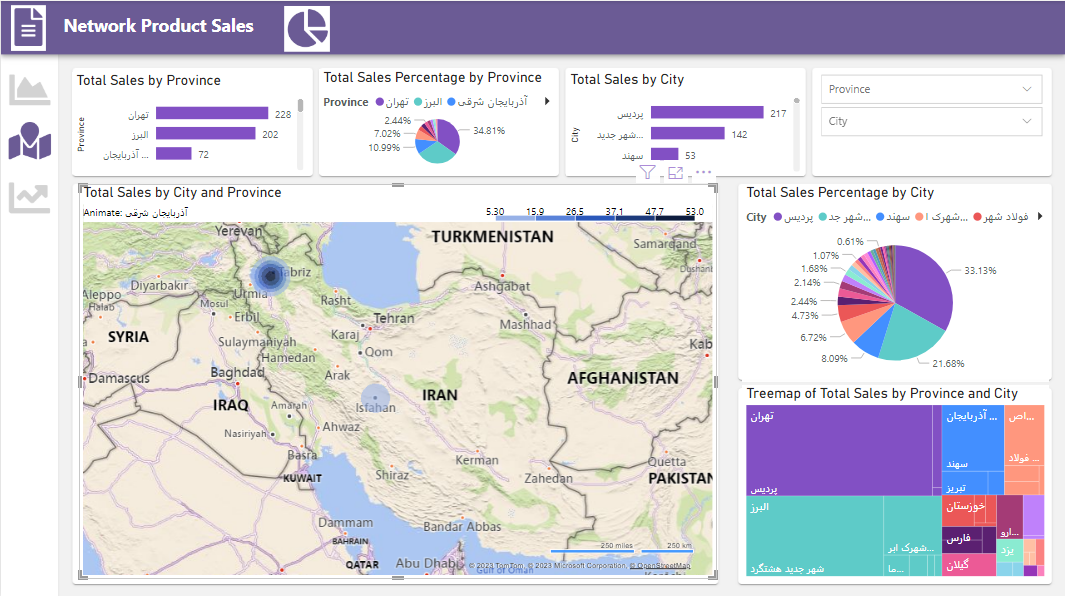

What the dashboard file says about the page in this screenshot:
{"tool":"powerbi","page":{"name":"Geo","canvas":[1280,720],"ordinal":1},"visuals":[{"type":"actionButton","box":[0,136.1,69.5,65.2],"z":0},{"type":"actionButton","box":[0,135,69.5,65],"z":1000},{"type":"actionButton","box":[0,69.5,69.5,65.7],"z":2000},{"type":"image","box":[0,201.3,69.5,65.2],"z":3000},{"type":"image","box":[0,81.9,69.5,53.3],"z":4000},{"type":"textbox","box":[69.5,9.9,260.8,41.1],"z":5000},{"type":"actionButton","box":[0,199.9,68,65.2],"z":6000},{"type":"clusteredBarChart","fields":{"Y":["CountNonNull(sales.Product_id)"],"Category":["province.Province"]},"box":[85,85.1,283.5,123.3],"z":7000,"group":"g1"},{"type":"clusteredBarChart","fields":{"Category":["city.City"],"Y":["CountNonNull(sales.Product_id)"]},"box":[678.9,83.6,286.3,126.2],"z":8000,"group":"g1"},{"type":"SmartFilterBySQLBI1458262140625","fields":{"Values":["province.Province","city.City"]},"box":[980.9,80.8,277.8,124.7],"z":9000,"group":"g1"},{"type":"pieChart","title":"Total Sales Percentage by Province","fields":{"Y":["CountNonNull(sales.Province_id)"],"Category":["province.Province"]},"box":[382.7,82.2,284.9,126.2],"z":10000,"group":"g1"},{"type":"pieChart","title":"Total Sales Percentage by City","fields":{"Category":["city.City"],"Y":["CountNonNull(sales.City_id)"]},"box":[890.1,219.7,368.5,238.1],"z":11000,"group":"g1"},{"type":"treemap","title":"Treemap of Total Sales by Province and City","fields":{"Details":["city.City"],"Group":["province.Province"],"Values":["CountNonNull(sales.Province_id)"]},"box":[890.1,462.1,368.5,235.3],"z":12000,"group":"g1"},{"type":"heatmapF244EA9EE1F34E828A80CF19B41976F8","fields":{"value":["CountNonNull(sales.City_id)"],"group":["province.Province"],"location":["city.City"]},"box":[93.5,219.7,766.9,474.9],"z":13000,"group":"g1"},{"type":"image","box":[0,134.7,69.5,65.2],"z":14000},{"type":"image","box":[0,0,65.2,65.2],"z":15000},{"type":"image","box":[335.9,0,65.2,66.6],"z":16000},{"type":"group","id":"g1","title":"Group 1","box":[85,80.8,1173.7,616.6],"z":16001}]}

Visuals, with their boxes on the page's 1280x720 design canvas (x1, y1, x2, y2). These are canvas units, not pixel positions in the 1065x596 screenshot, which may show the page scaled, cropped or inside an application window:
actionButton: (x1=0, y1=136, x2=70, y2=201)
actionButton: (x1=0, y1=135, x2=70, y2=200)
actionButton: (x1=0, y1=70, x2=70, y2=135)
image: (x1=0, y1=201, x2=70, y2=266)
image: (x1=0, y1=82, x2=70, y2=135)
textbox: (x1=70, y1=10, x2=330, y2=51)
actionButton: (x1=0, y1=200, x2=68, y2=265)
clusteredBarChart - CountNonNull(sales.Product_id) x province.Province: (x1=85, y1=85, x2=368, y2=208)
clusteredBarChart - city.City x CountNonNull(sales.Product_id): (x1=679, y1=84, x2=965, y2=210)
SmartFilterBySQLBI1458262140625 - province.Province x city.City: (x1=981, y1=81, x2=1259, y2=206)
"Total Sales Percentage by Province" pieChart: (x1=383, y1=82, x2=668, y2=208)
"Total Sales Percentage by City" pieChart: (x1=890, y1=220, x2=1259, y2=458)
"Treemap of Total Sales by Province and City" treemap: (x1=890, y1=462, x2=1259, y2=697)
heatmapF244EA9EE1F34E828A80CF19B41976F8 - CountNonNull(sales.City_id) x province.Province: (x1=94, y1=220, x2=860, y2=695)
image: (x1=0, y1=135, x2=70, y2=200)
image: (x1=0, y1=0, x2=65, y2=65)
image: (x1=336, y1=0, x2=401, y2=67)
"Group 1" group: (x1=85, y1=81, x2=1259, y2=697)
